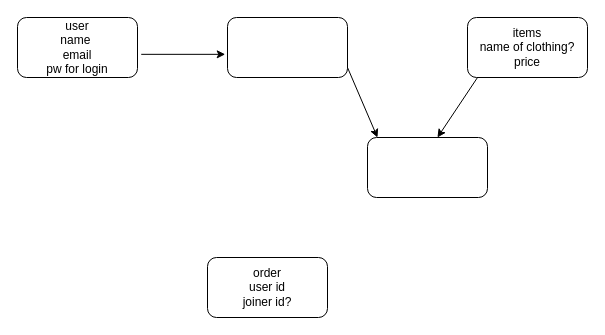
Some shapes in this 605 by 335 pixel diagram are drawn without their labels. Here are the shapes that lost their labels. From the top down, the centre of each, then its label:
At point 287,47: "cart user id name (this will help w frontend)".
At point 427,167: "cart/items cart id item".
